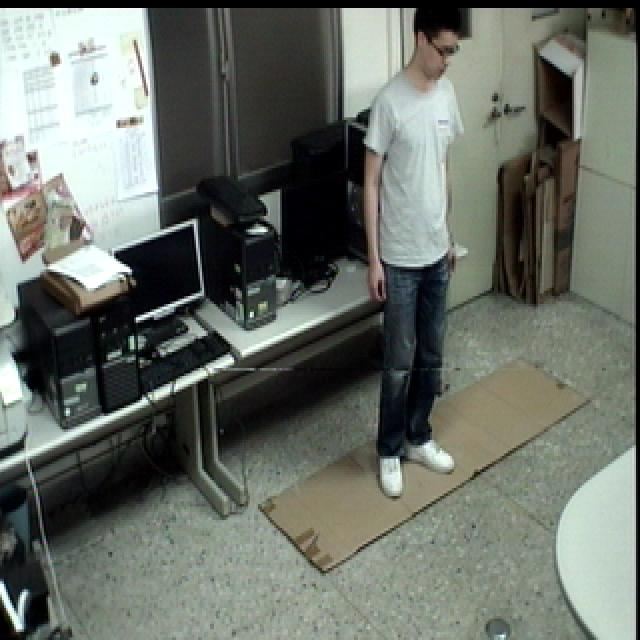stand: (352, 8, 473, 506)
